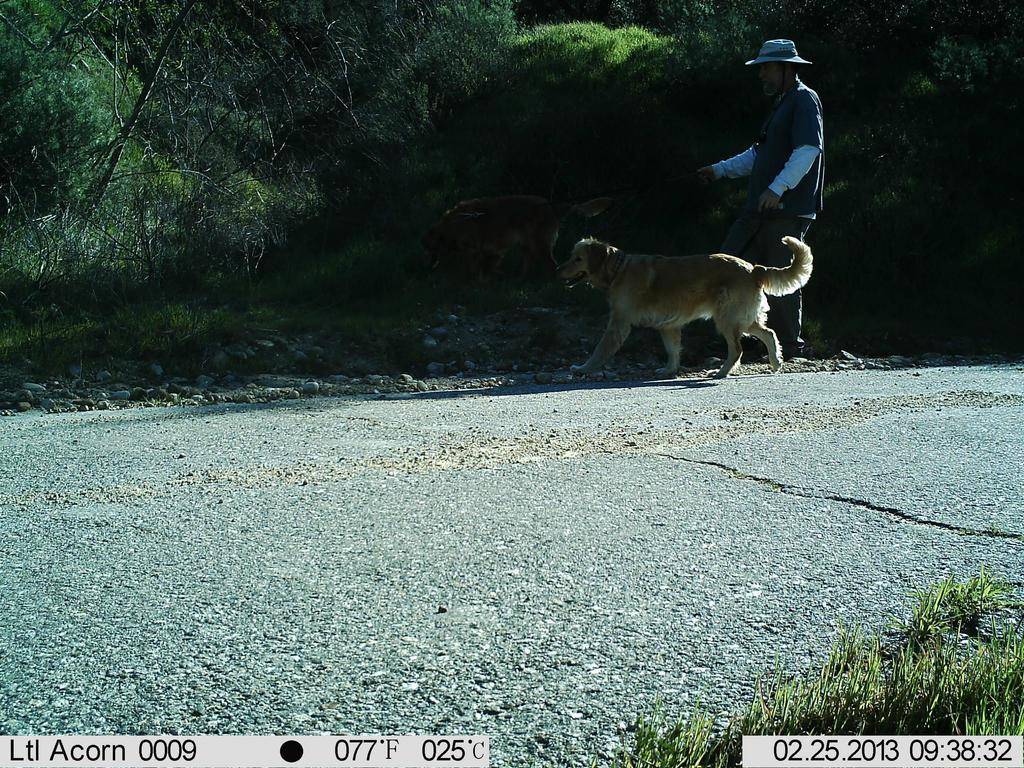dog: (549, 223, 821, 395)
